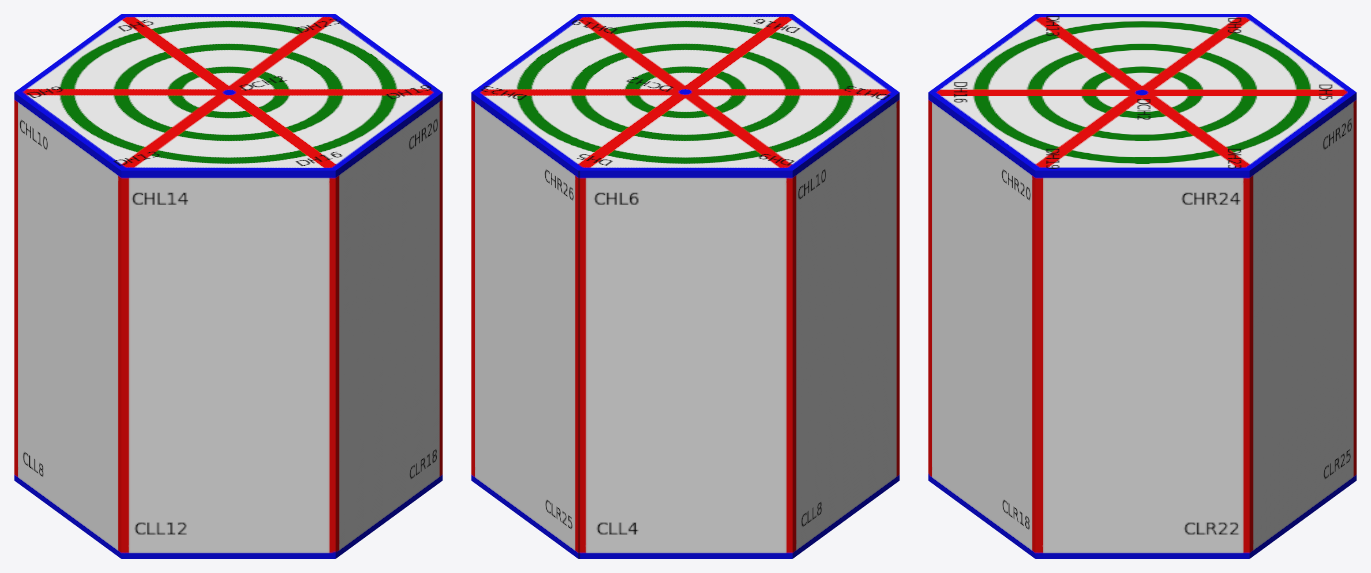
File: cylindre6.obj
The picture shows the model from 3 angles, left to right: view 1: azimuth 30°, elevation 25°; view 2: azimuth 150°, elevation 25°; view 3: azimuth 270°, elevation 25°; orthographic projection.
Visible parts, largest first — view 1: cylindre, upperDisc; view 2: cylindre, upperDisc; view 3: cylindre, upperDisc.
Boxes of the visible parts, left/top/right/bottom form: cylindre: left=14, top=92, right=442, bottom=558; upperDisc: left=14, top=14, right=442, bottom=170; cylindre: left=471, top=92, right=899, bottom=558; upperDisc: left=471, top=14, right=899, bottom=170; cylindre: left=928, top=92, right=1356, bottom=558; upperDisc: left=928, top=14, right=1356, bottom=170.
Bounding box in the file's own units: 1.73 × 2 × 2.
Materials: 2 (2 with a texture image).
